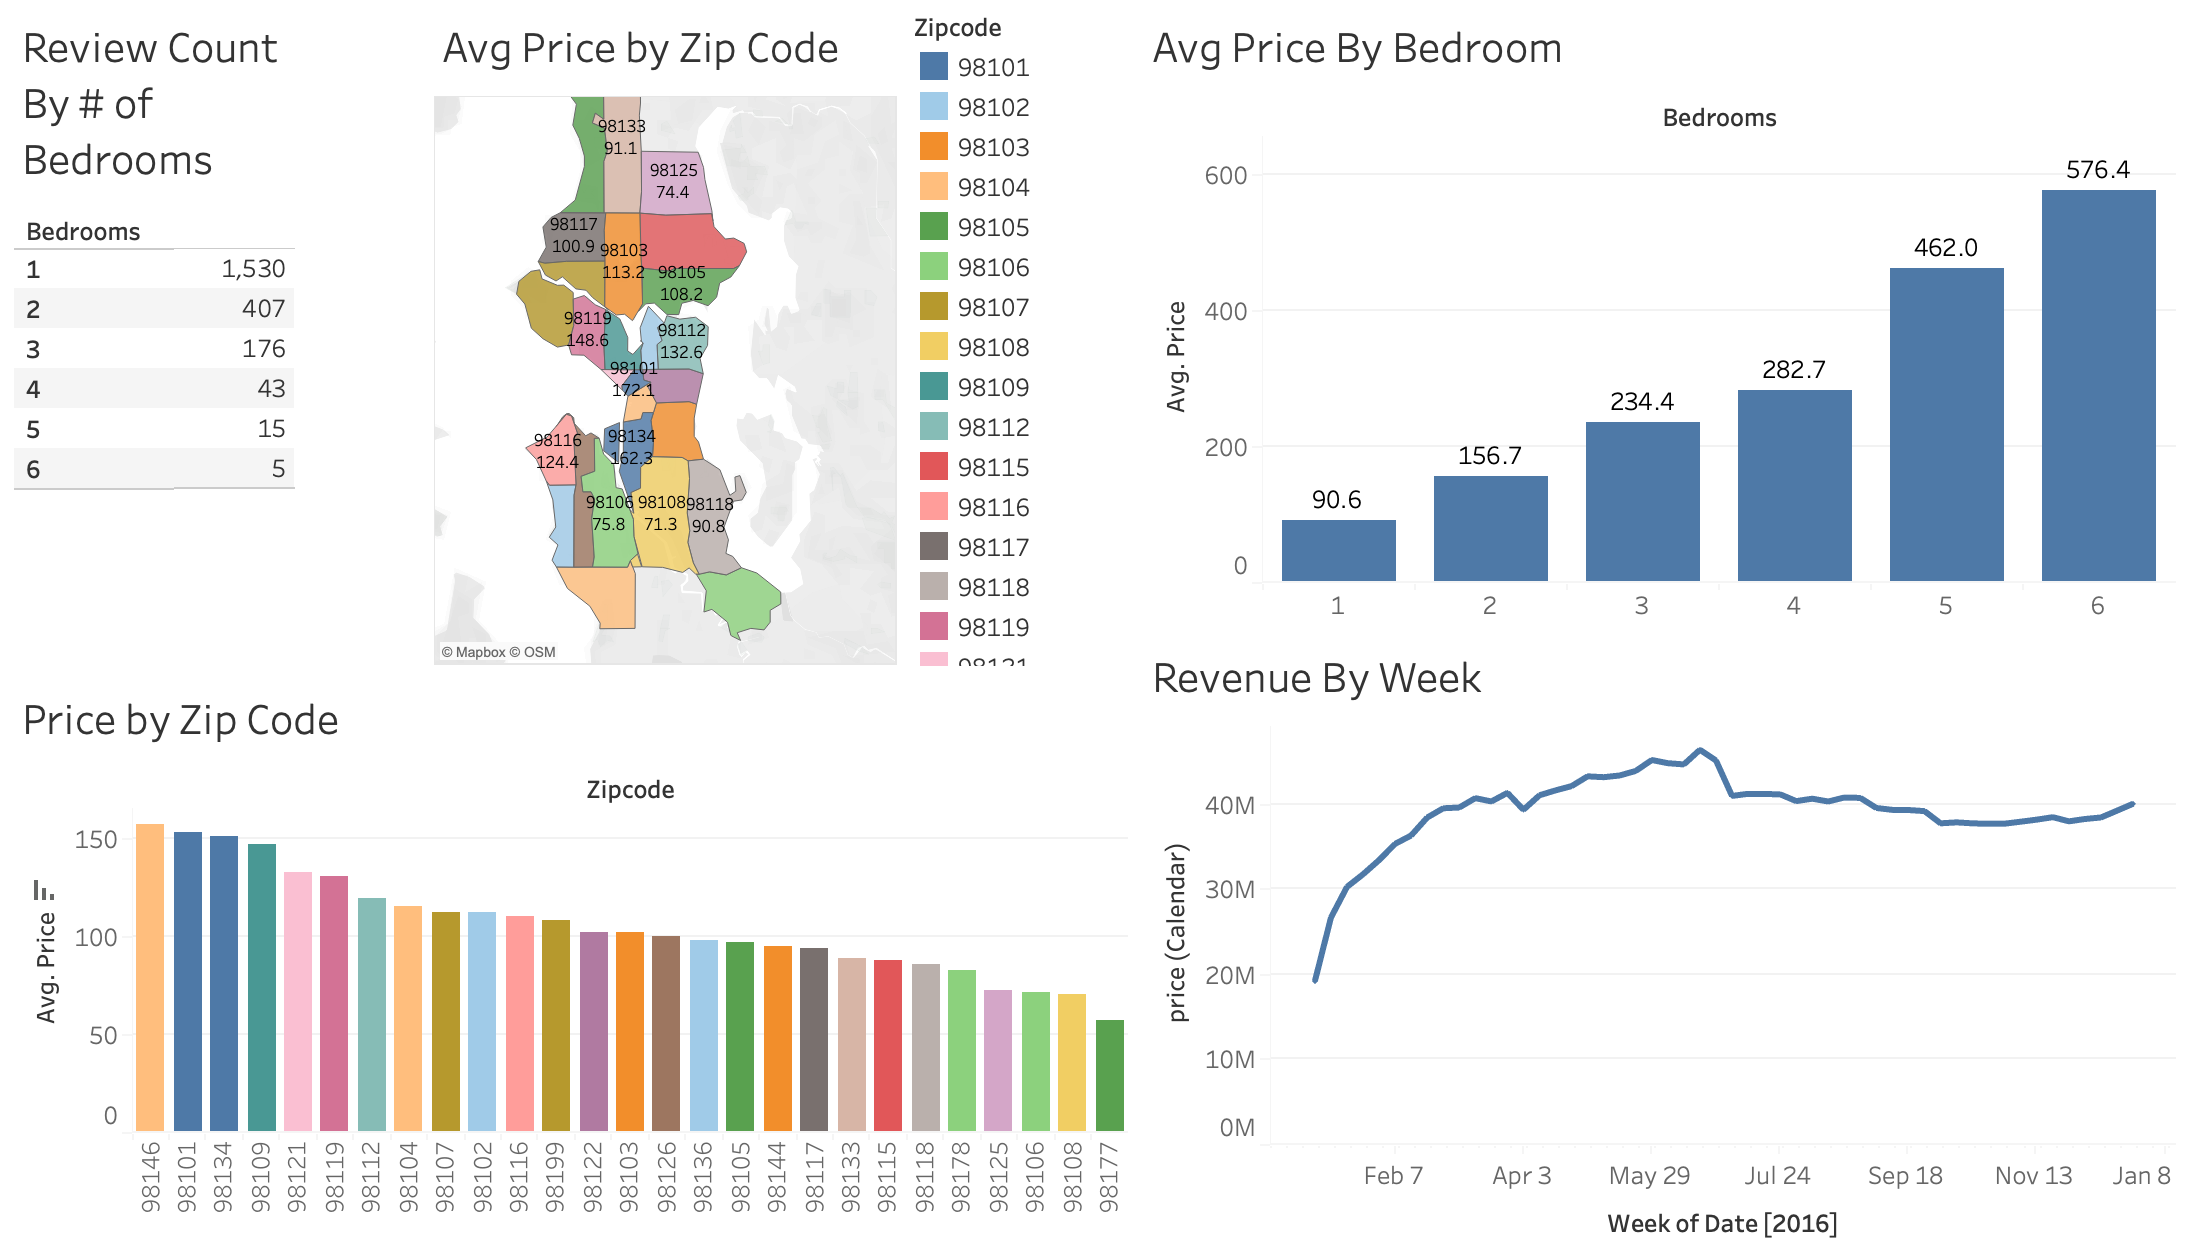

What the dashboard file says about the page in this screenshot:
{"tool":"tableau","page":{"name":"Dashboard 1","canvas":[1000,1000],"units":"permille","ordinal":0},"visuals":[{"type":"worksheet","title":"Sheet 5","mark":"Automatic","rows":["bedrooms"],"box":[7.2,12.4,189.9,520.9]},{"type":"worksheet","title":"Sheet 2","mark":"Multipolygon","box":[197.1,12.4,217.5,520.9]},{"type":"legend","title":"Sheet 1","param":"[federated.0zxn14g13wtroh1503qdl0zs9l3j].[none:zipcode:ok]","box":[414.6,12.4,104,520.9]},{"type":"worksheet","title":"Sheet 4","mark":"Automatic","rows":["price"],"cols":["bedrooms"],"box":[518.5,12.4,474.2,487.6]},{"type":"worksheet","title":"Sheet 3","mark":"Automatic","rows":["price (Calendar)"],"cols":["date"],"box":[518.5,500,474.2,487.6]},{"type":"worksheet","title":"Sheet 1","mark":"Automatic","rows":["price"],"cols":["zipcode"],"box":[7.2,533.3,511.3,454.3]}]}

Visuals, with their boxes on the dashboard's canvas, which has no fixed pixel size, in thousandths of its width and height (x1, y1, x2, y2). These are canvas units, not pixel positions in the 2196x1252 screenshot, which may show the page scaled, cropped or inside an application window:
"Sheet 5" worksheet: <region>7, 12, 197, 533</region>
"Sheet 2" worksheet (Multipolygon marks): <region>197, 12, 415, 533</region>
"Sheet 1" legend: <region>415, 12, 519, 533</region>
"Sheet 4" worksheet: <region>518, 12, 993, 500</region>
"Sheet 3" worksheet: <region>518, 500, 993, 988</region>
"Sheet 1" worksheet: <region>7, 533, 518, 988</region>
